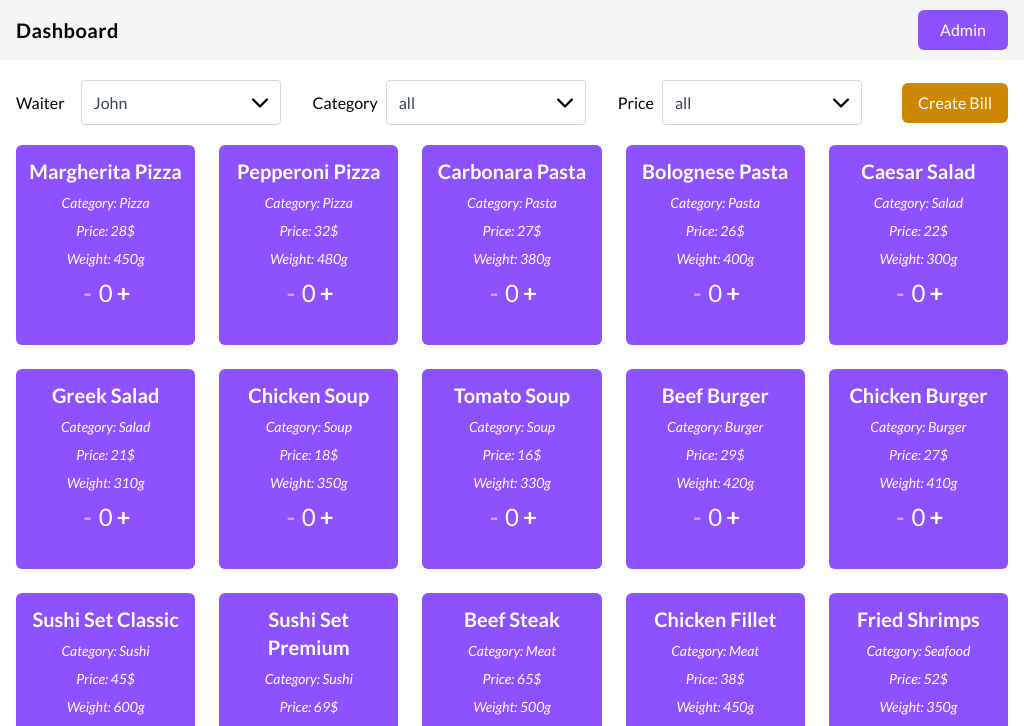
Test: Test receipt page › Shows error when creating bill without dishes
This screenshot has width=1024, height=726.
Step 1. Click the button with test id "create-bill-btn" → (955, 103), box left=902, top=83, right=1008, bottom=123
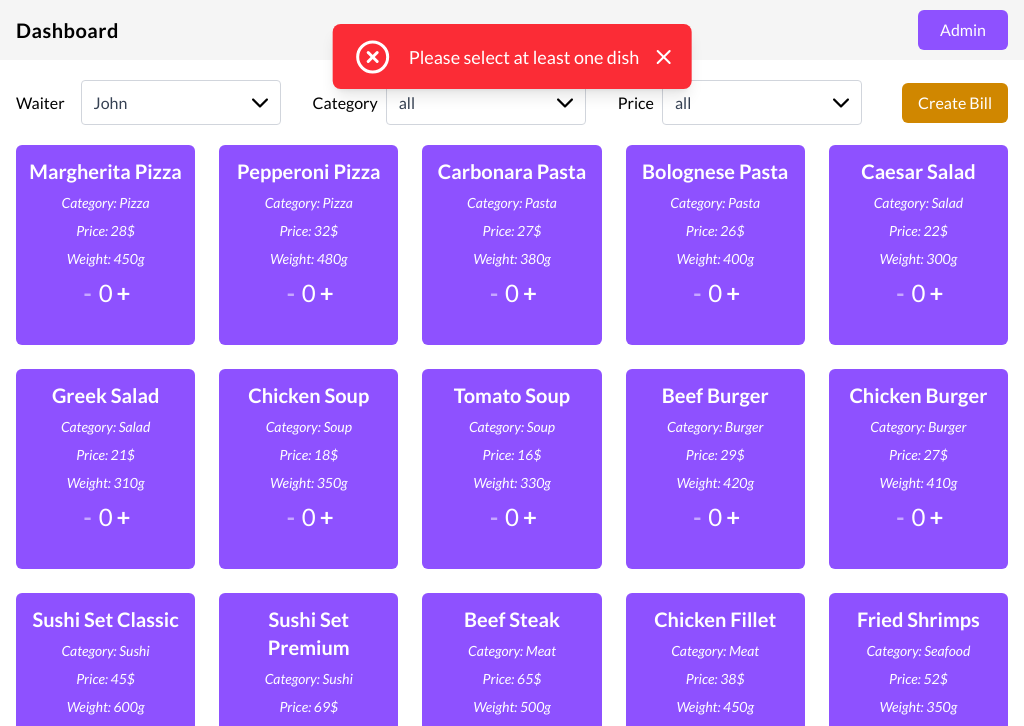
Expected: the element with test id "alert" is shown, left=333, top=24, right=692, bottom=89
